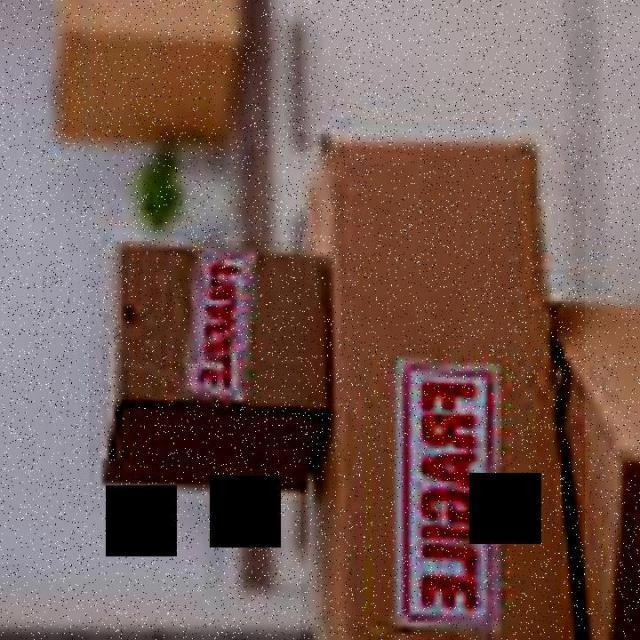box: (300, 134, 585, 640), (89, 242, 336, 496)
